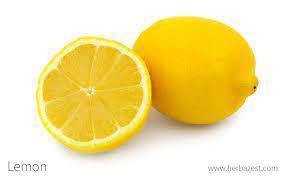lemon: (132, 16, 258, 124), (36, 36, 152, 153)
